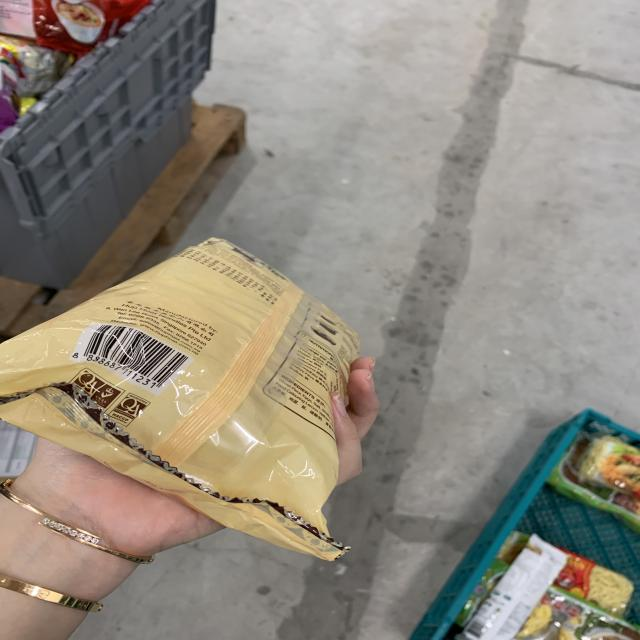object_name: (41, 244, 342, 500)
